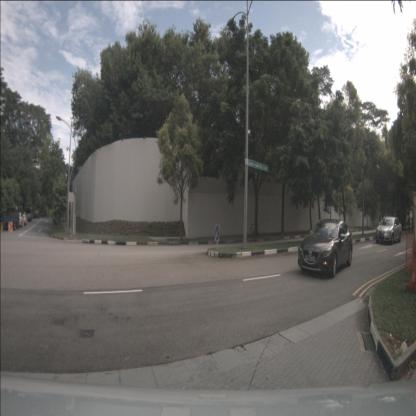cone: (0, 222, 4, 232), (26, 219, 29, 226), (22, 221, 24, 227)
